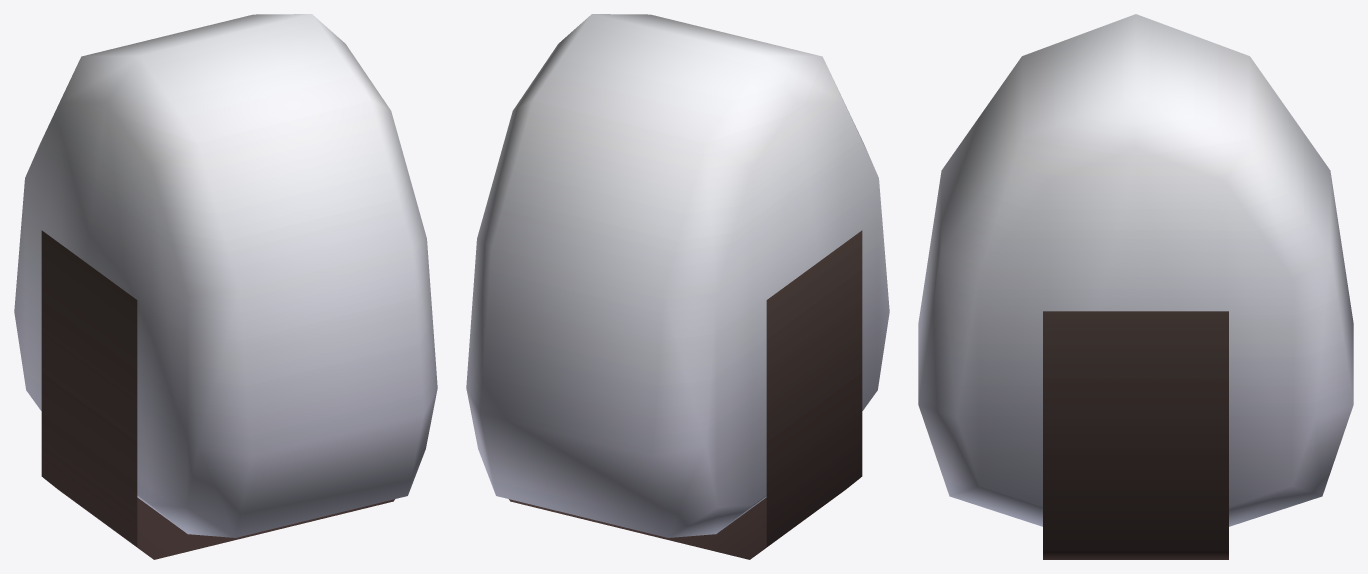
The model's file is ris.glb.
3 renders of one model, left to right at view 1: azimuth 30°, elevation 25°; view 2: azimuth 150°, elevation 25°; view 3: azimuth 270°, elevation 25°, orthographic. The views are drawn at different scales.
Parts seen in each view (by area): view 1: rice-ball; view 2: rice-ball; view 3: rice-ball.
Part boxes in pixels (x1,y1,x2,y2): rice-ball: (14,14,437,559); rice-ball: (466,14,889,559); rice-ball: (918,14,1353,559).
Size of the model in its own units: 0.0812 by 0.1309 by 0.1152.
Materials: 1 (1 with a texture image).
